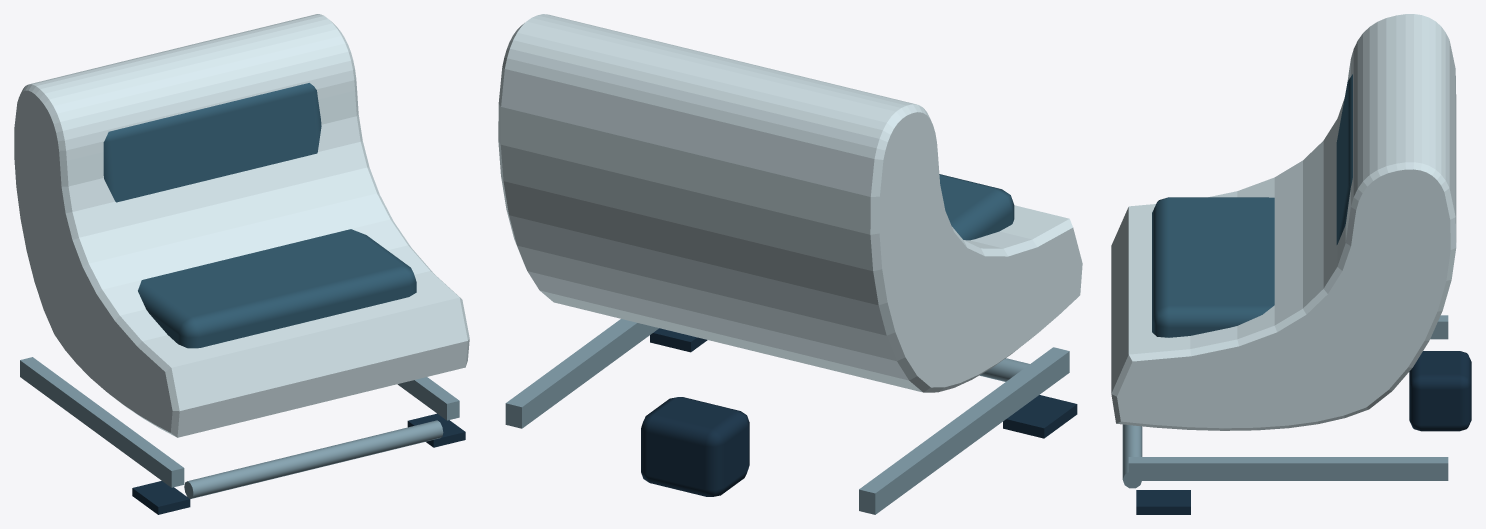
File: loungedesignchair.glb
3 views of the same model, side by side, from view 1: azimuth 30°, elevation 25°; view 2: azimuth 150°, elevation 25°; view 3: azimuth 270°, elevation 25° (orthographic). The views are drawn at different scales.
Parts seen in each view (by area): view 1: atelier-cyber-loungedesignchair; view 2: atelier-cyber-loungedesignchair; view 3: atelier-cyber-loungedesignchair.
Part boxes in pixels (x1,y1,x2,y2): atelier-cyber-loungedesignchair: [14, 14, 469, 514]; atelier-cyber-loungedesignchair: [498, 14, 1082, 514]; atelier-cyber-loungedesignchair: [1111, 14, 1471, 514].
Bounding box in the file's own units: 0.9748 × 1 × 0.9387.
